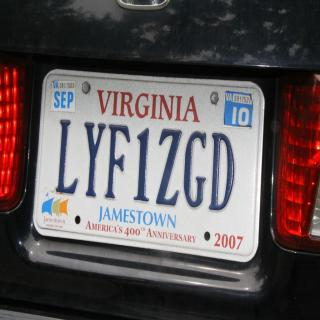license: (34, 70, 260, 263)
